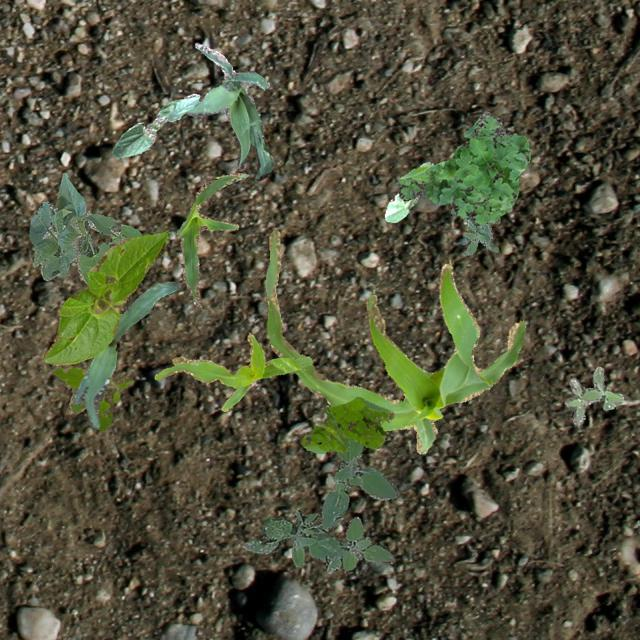crop: (264, 230, 524, 452), (42, 230, 168, 364), (72, 280, 176, 426), (27, 172, 142, 282), (184, 42, 274, 180), (154, 332, 312, 410), (175, 172, 247, 308), (110, 92, 198, 158), (383, 160, 432, 222)
weed: (242, 440, 398, 572), (396, 110, 530, 224), (51, 364, 132, 430), (300, 396, 392, 452), (564, 366, 622, 426), (450, 207, 498, 254)
